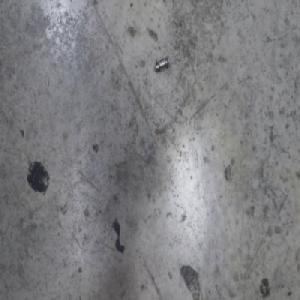Bolt: (154, 55, 169, 74)
